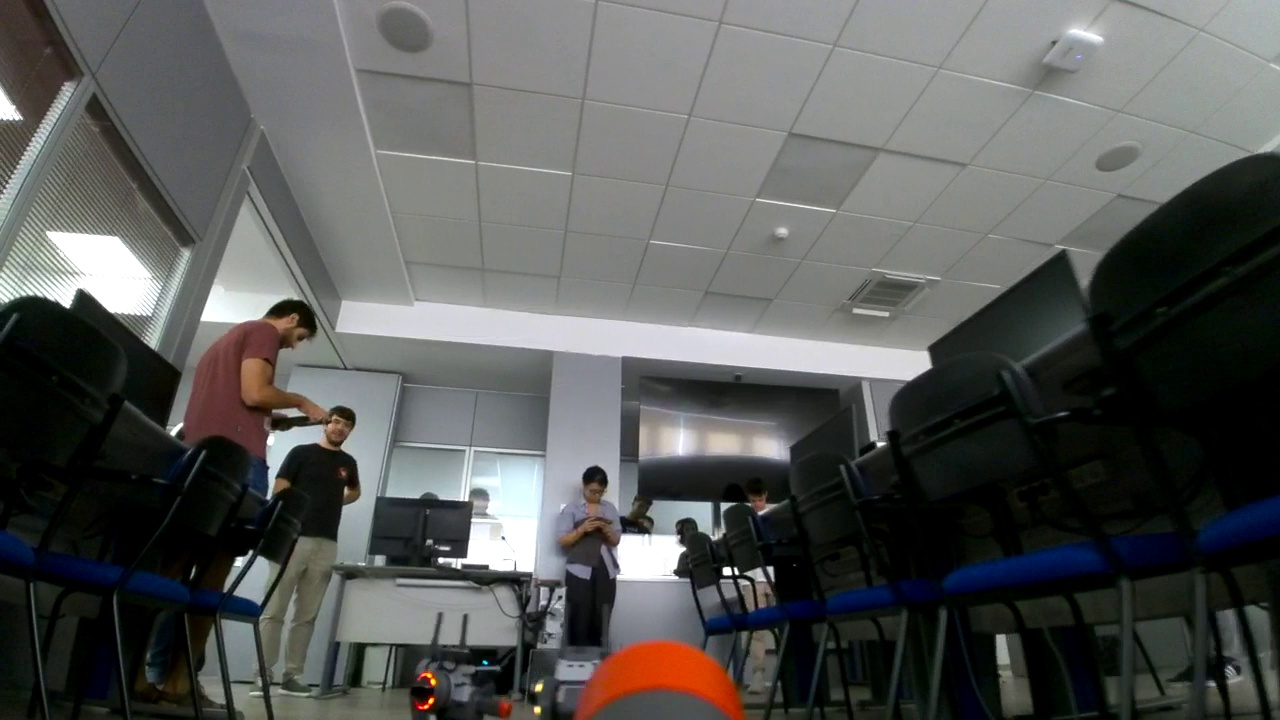robot: (412, 612, 512, 720), (536, 604, 624, 720)
